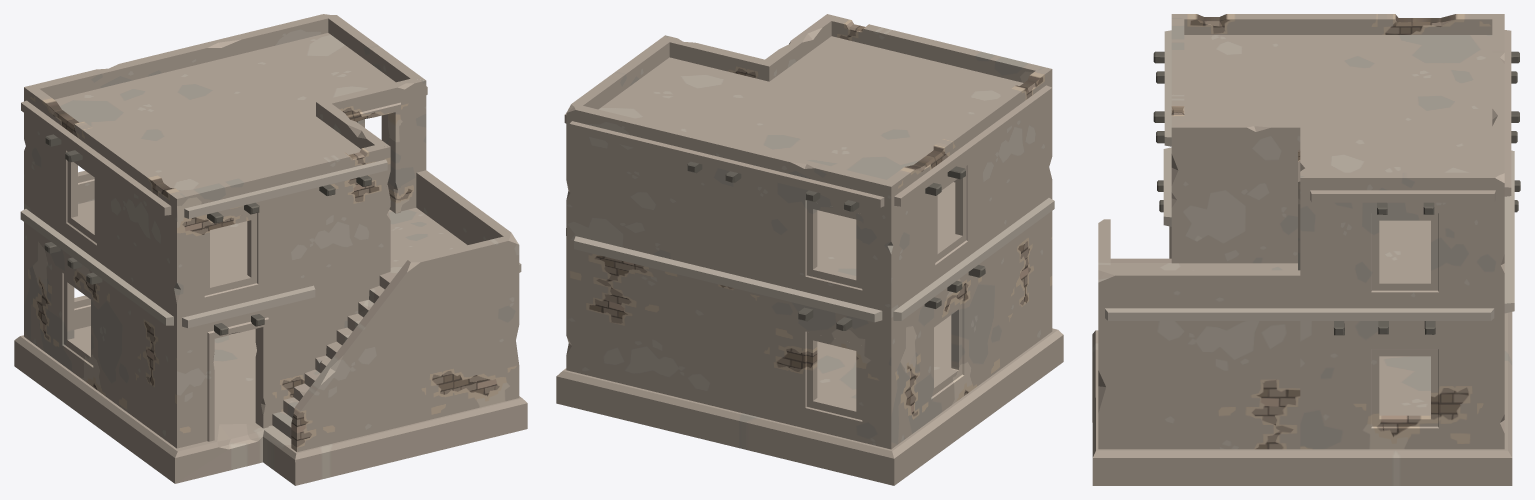
File: SM_Bld_Village_House_06.glb
The picture shows the model from 3 angles, left to right: view 1: azimuth 30°, elevation 25°; view 2: azimuth 150°, elevation 25°; view 3: azimuth 270°, elevation 25°; orthographic projection. The views are drawn at different scales.
Parts seen in each view (by area): view 1: SM_Bld_Village_House_06; view 2: SM_Bld_Village_House_06; view 3: SM_Bld_Village_House_06.
Boxes of the visible parts, x1,y1,x2,y2 form: SM_Bld_Village_House_06: (14,14,527,485); SM_Bld_Village_House_06: (556,14,1063,485); SM_Bld_Village_House_06: (1092,14,1520,485).
Bounding box in the file's own units: 8.49 × 6.74 × 8.58.
Materials: 1 (1 with a texture image).
